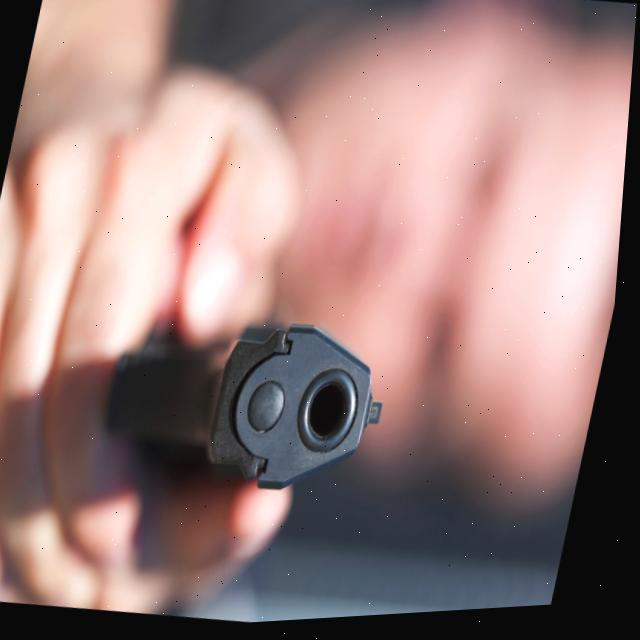pistol: (97, 297, 408, 518)
